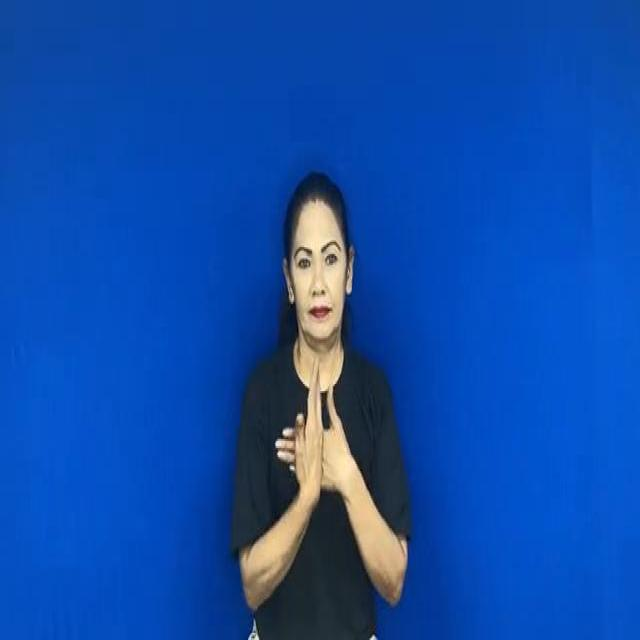bread: (282, 359, 356, 522)
